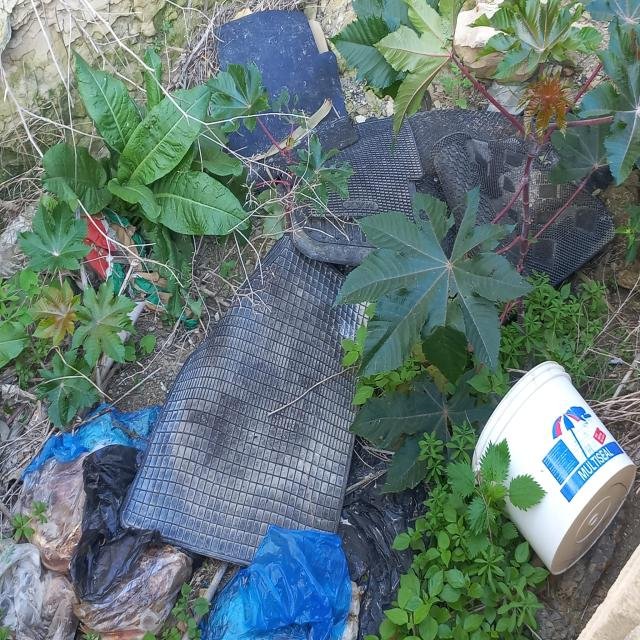Other litter: (211, 8, 358, 193)
Other plastic: (123, 230, 375, 565), (193, 439, 428, 640), (0, 405, 195, 640), (405, 107, 614, 285), (470, 361, 637, 576), (286, 114, 423, 264)
Paper: (79, 214, 196, 325)
